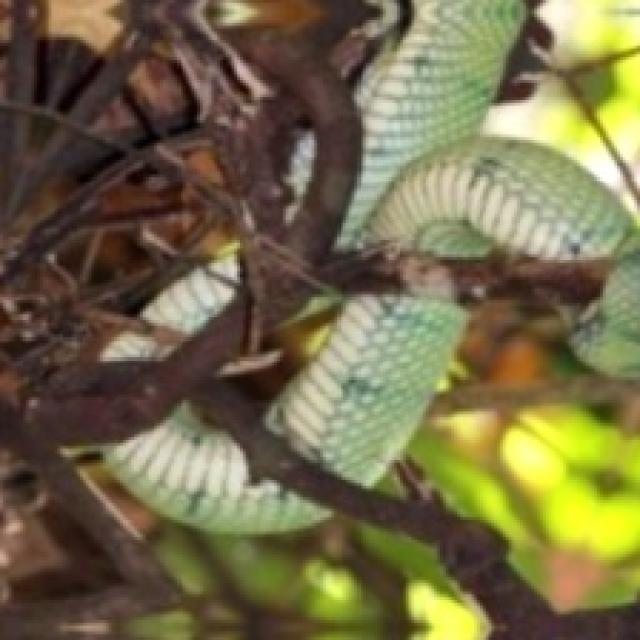north ph temple pitviper: (343, 0, 629, 260), (266, 291, 463, 483), (106, 403, 326, 531), (577, 257, 637, 374)
